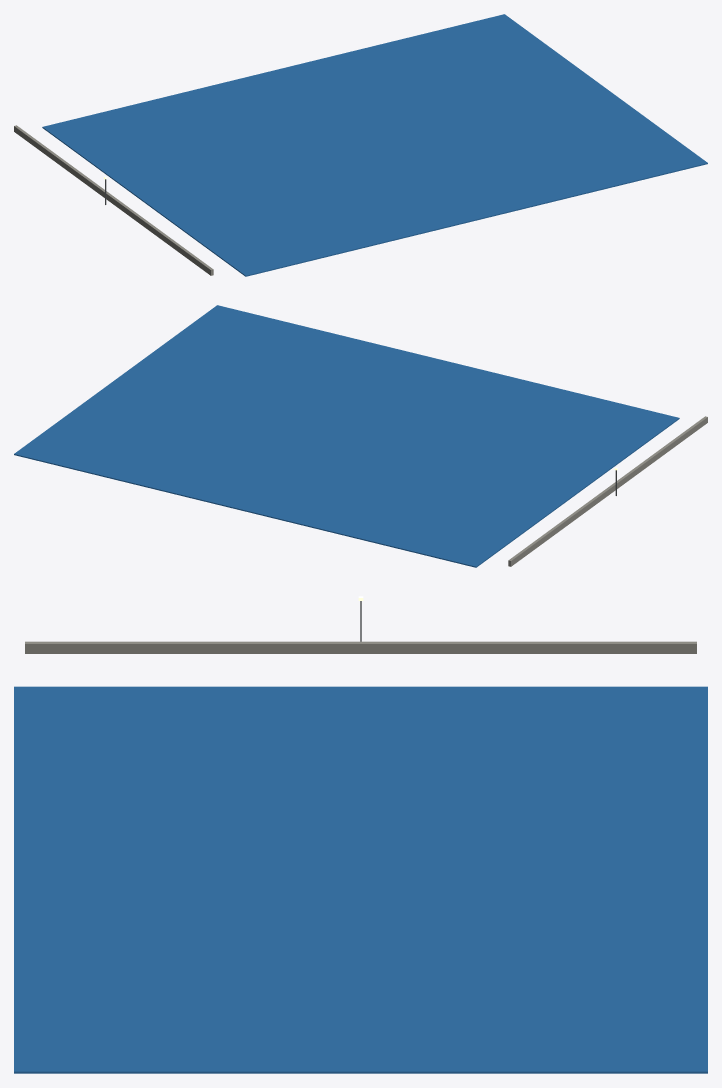
Rendered from theme-river-1.glb.
3 views of the same model, one above another, from view 1: azimuth 30°, elevation 25°; view 2: azimuth 150°, elevation 25°; view 3: azimuth 270°, elevation 25° (orthographic). The views are drawn at different scales.
Parts seen in each view (by area): view 1: 00_#2a5a80_noshadow, 01_#9a9890; view 2: 00_#2a5a80_noshadow, 01_#9a9890; view 3: 00_#2a5a80_noshadow, 01_#9a9890.
Boxes of the visible parts, <box> form: 00_#2a5a80_noshadow: <box>42,14,707,276</box>; 01_#9a9890: <box>14,125,213,275</box>; 00_#2a5a80_noshadow: <box>14,305,679,567</box>; 01_#9a9890: <box>508,416,707,566</box>; 00_#2a5a80_noshadow: <box>14,686,707,1073</box>; 01_#9a9890: <box>25,641,696,653</box>.
Size of the model in its own units: 91.2 by 6.05 by 64.
